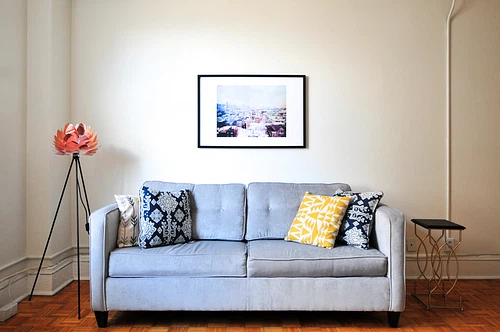side table: (411, 217, 468, 313)
sofa: (87, 179, 408, 328)
wall art: (195, 72, 308, 149)
